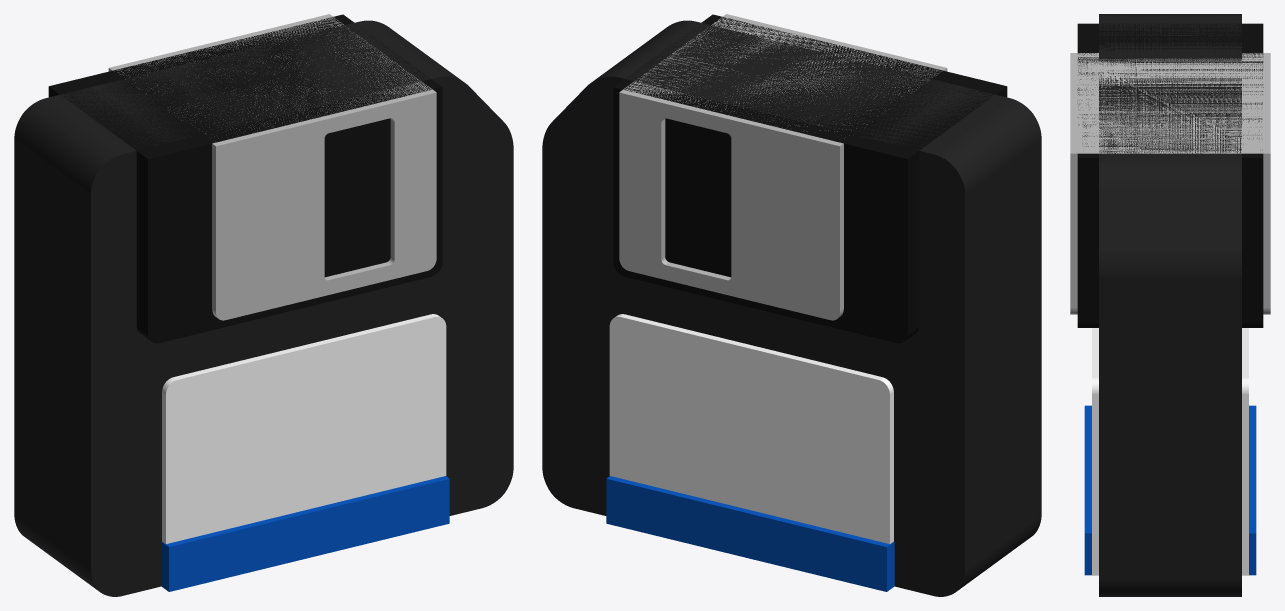
The picture shows the model from 3 angles, left to right: view 1: azimuth 30°, elevation 25°; view 2: azimuth 150°, elevation 25°; view 3: azimuth 270°, elevation 25°; orthographic projection. The views are drawn at different scales.
Parts seen in each view (by area): view 1: U+1F4BE_layer00_obj00, U+1F4BE_layer03_obj00, U+1F4BE_layer01_obj00, U+1F4BE_layer04_obj00, U+1F4BE_layer02_obj00; view 2: U+1F4BE_layer00_obj00, U+1F4BE_layer01_obj00, U+1F4BE_layer03_obj00, U+1F4BE_layer04_obj00, U+1F4BE_layer02_obj00; view 3: U+1F4BE_layer00_obj00, U+1F4BE_layer04_obj00, U+1F4BE_layer03_obj00, U+1F4BE_layer01_obj00, U+1F4BE_layer02_obj00.
Boxes of the visible parts, box(x1,y1,x2,y2) form: U+1F4BE_layer00_obj00: box(14, 20, 513, 596); U+1F4BE_layer03_obj00: box(48, 14, 442, 343); U+1F4BE_layer01_obj00: box(162, 314, 446, 543); U+1F4BE_layer04_obj00: box(108, 14, 436, 320); U+1F4BE_layer02_obj00: box(161, 476, 449, 591); U+1F4BE_layer00_obj00: box(542, 20, 1041, 596); U+1F4BE_layer01_obj00: box(609, 314, 893, 543); U+1F4BE_layer03_obj00: box(613, 14, 1007, 343); U+1F4BE_layer04_obj00: box(619, 14, 947, 320); U+1F4BE_layer02_obj00: box(606, 476, 894, 591); U+1F4BE_layer00_obj00: box(1099, 14, 1241, 596); U+1F4BE_layer04_obj00: box(1070, 53, 1270, 314); U+1F4BE_layer03_obj00: box(1077, 23, 1263, 327); U+1F4BE_layer01_obj00: box(1092, 328, 1248, 575); U+1F4BE_layer02_obj00: box(1084, 405, 1256, 575).
Size of the model in its own units: 0.3186 by 0.3183 by 0.14.
